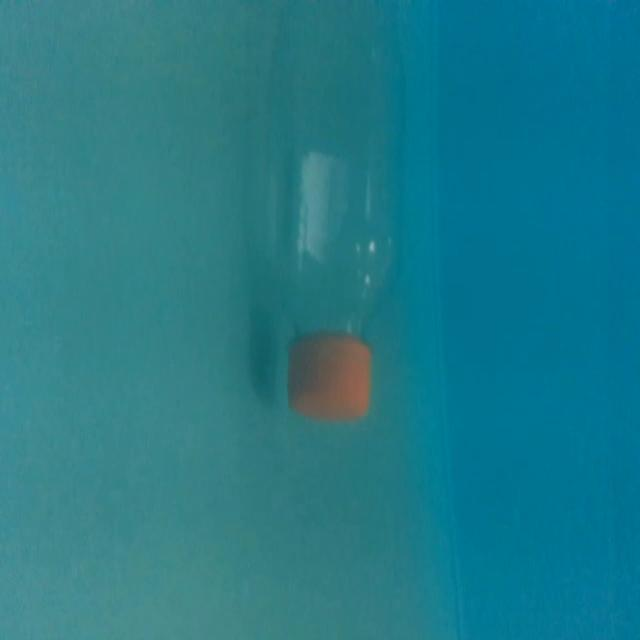plastic bottle: (260, 2, 419, 426)
